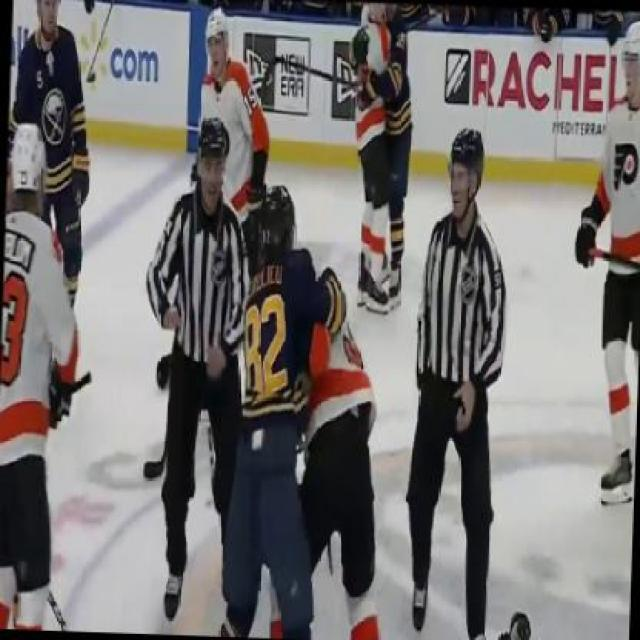fight: (222, 186, 398, 639)
non-fight: (394, 130, 517, 638), (134, 114, 252, 636)
